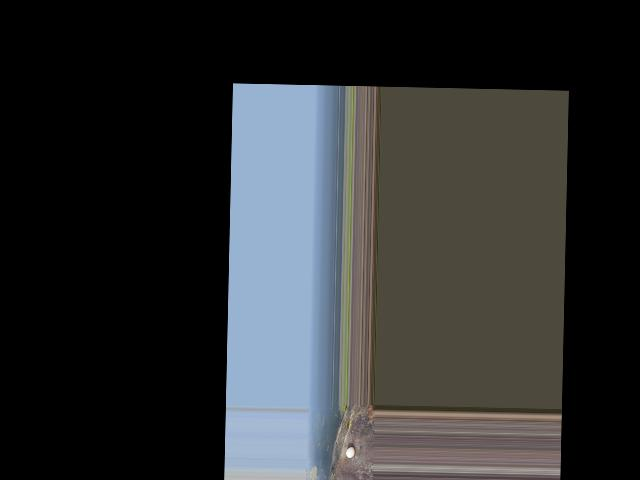egg: (345, 447, 355, 458)
